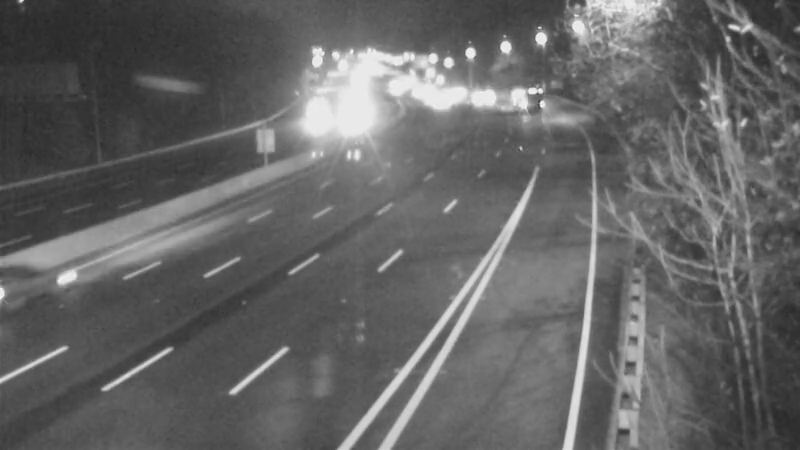vehicle: (1, 248, 72, 328), (503, 75, 553, 125), (458, 72, 508, 122), (413, 77, 463, 127), (289, 88, 339, 138)
